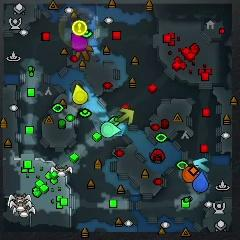Other: (72, 20, 87, 35)
p1: (192, 170, 209, 194)
p2: (100, 121, 121, 137)
p3: (69, 32, 89, 52)
p4: (72, 83, 88, 104)
p5: (182, 164, 200, 185)
x2: (117, 107, 135, 125)
x3: (192, 156, 211, 172)
x5: (75, 45, 92, 61)
